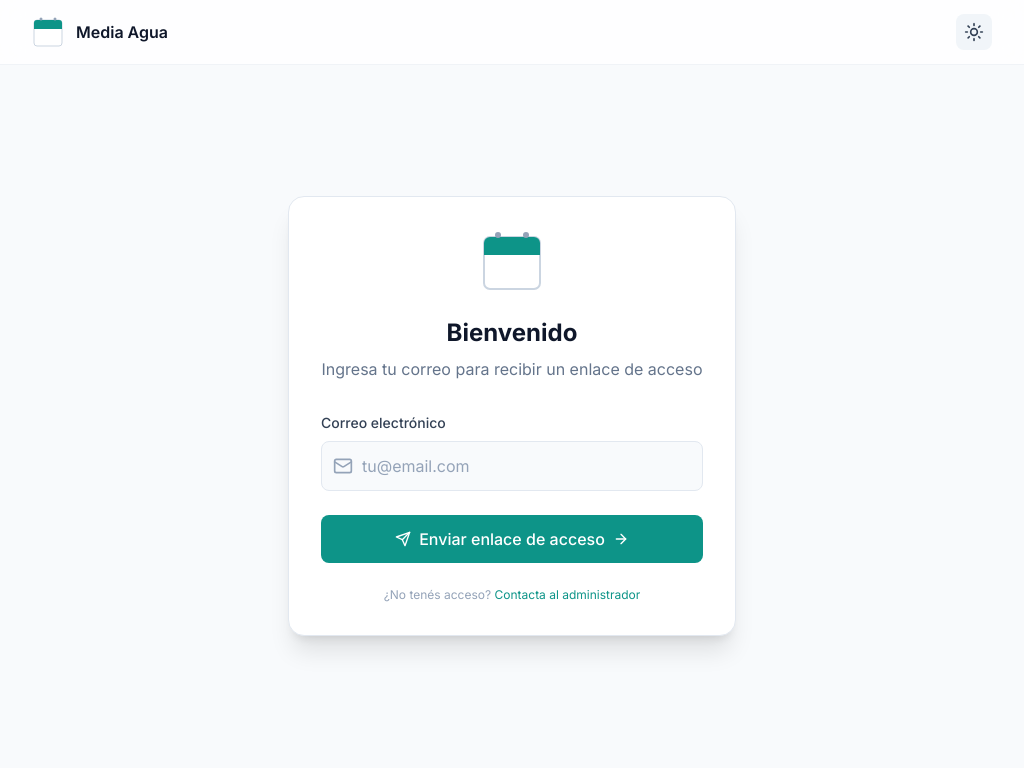
LoginPage › si Supabase devuelve error, lo muestra tal cual (sin redirigir)
The width and height of the screenshot is (1024, 768).
Type "guillermoandrada@gmail.com" into the field with placeholder "tu@email.com". click: [512, 466]
box: [321, 441, 703, 491]
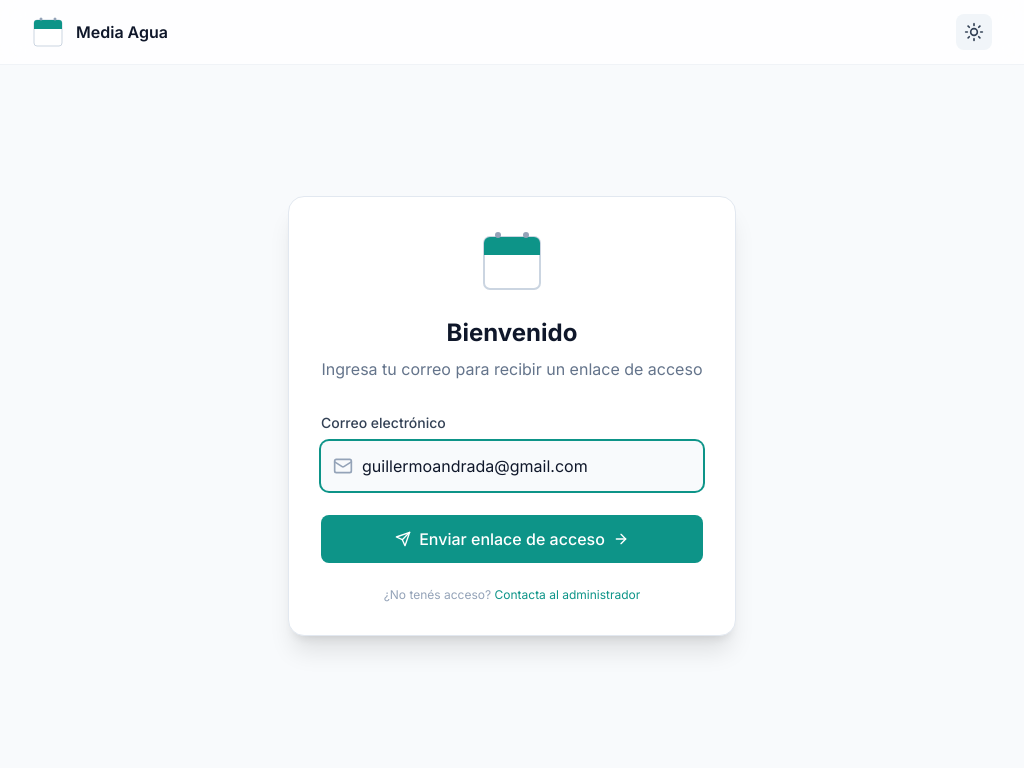
Click the button "Enviar enlace de acceso". click: [512, 539]
box: [321, 515, 703, 563]
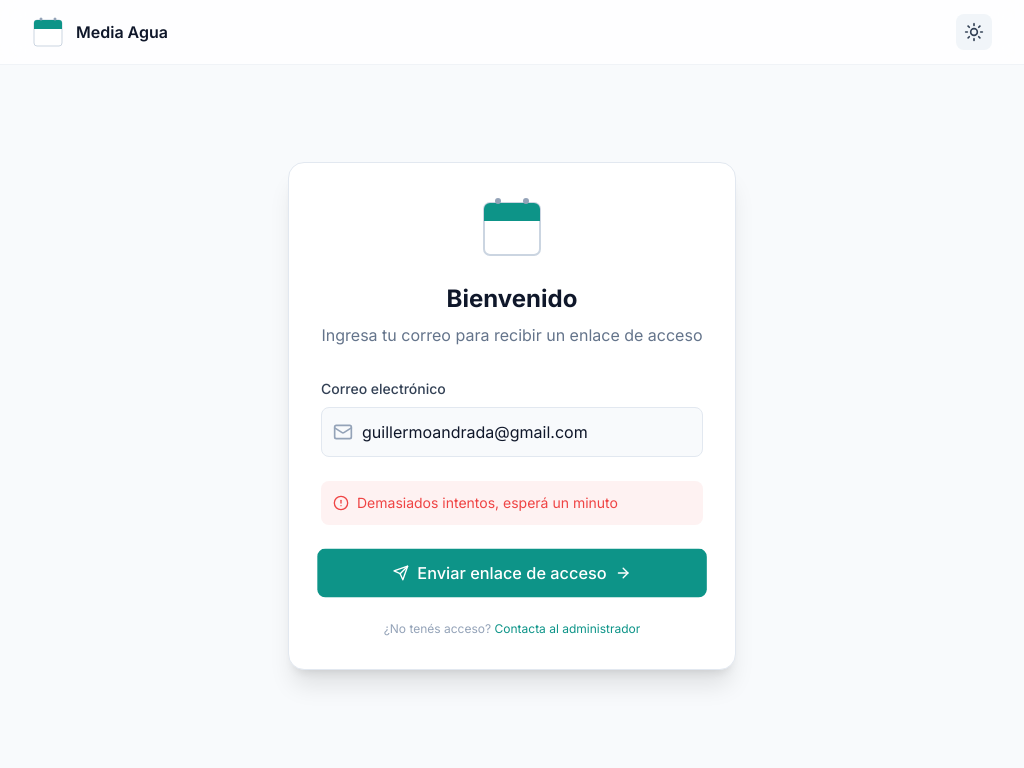
Expected: the text "Demasiados intentos, esperá un minuto" is shown, [357, 493, 618, 513]
